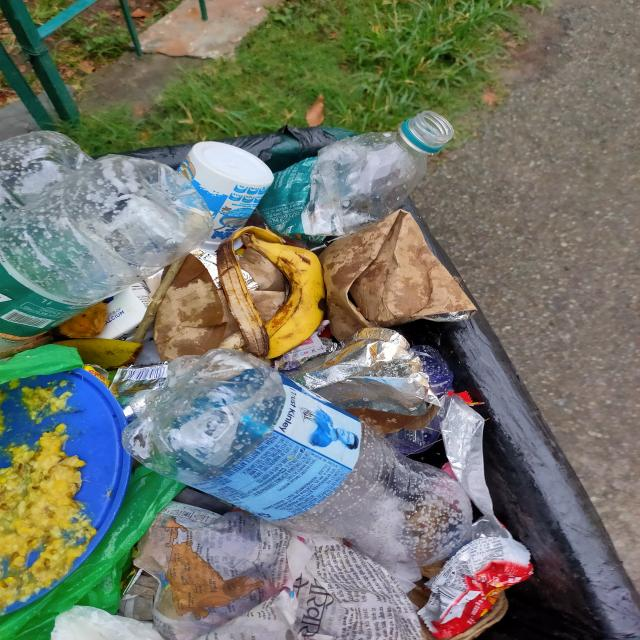B3: (0, 137, 214, 281), (265, 110, 457, 238), (127, 352, 365, 451), (324, 211, 480, 324), (420, 542, 533, 638), (161, 293, 230, 344)
